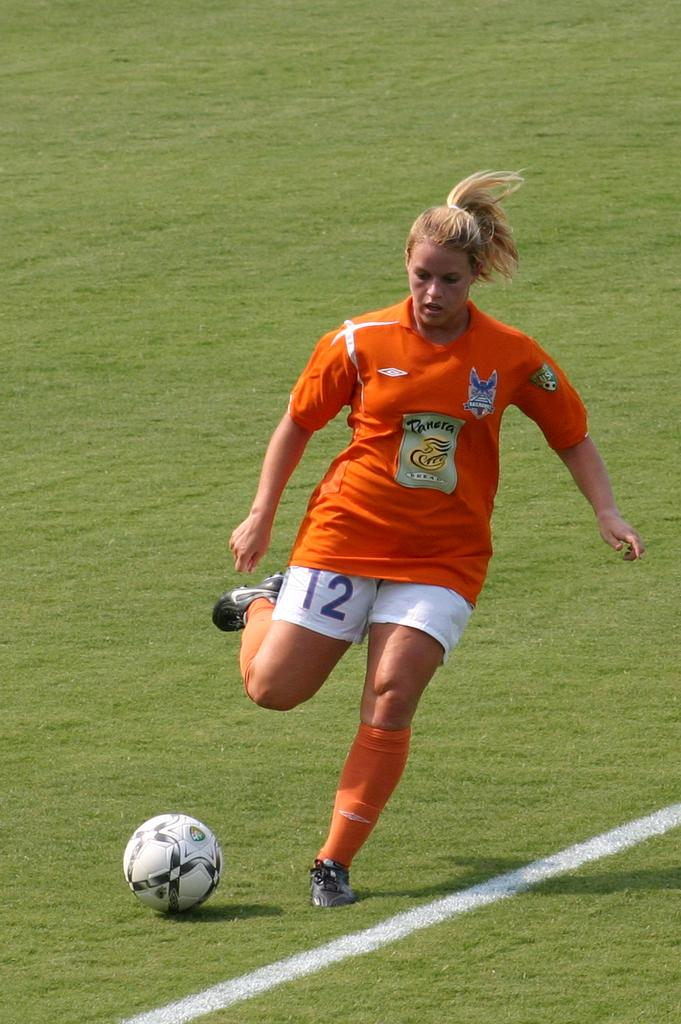Pessoa: (214, 171, 643, 905)
